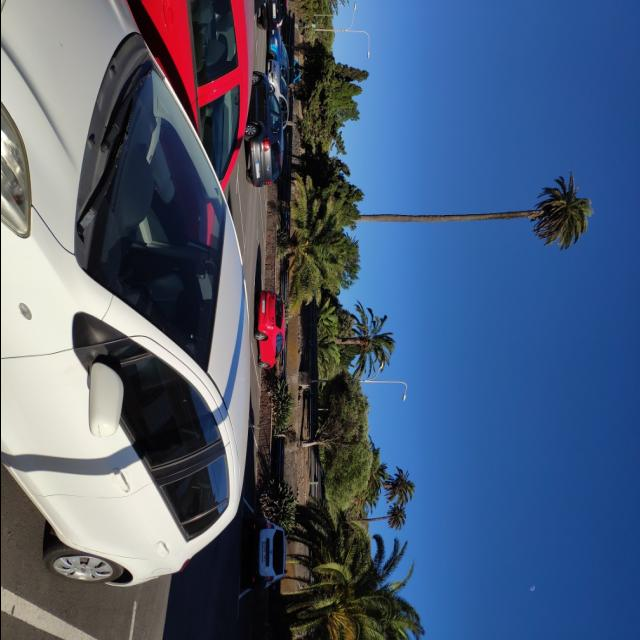Palm-Trees: (347, 172, 594, 254), (287, 504, 423, 638), (278, 179, 346, 307), (327, 307, 395, 381), (372, 468, 417, 502), (361, 502, 406, 530)
